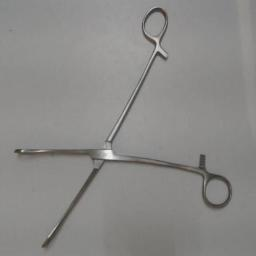Sponge Forceps: (10, 1, 234, 253)
